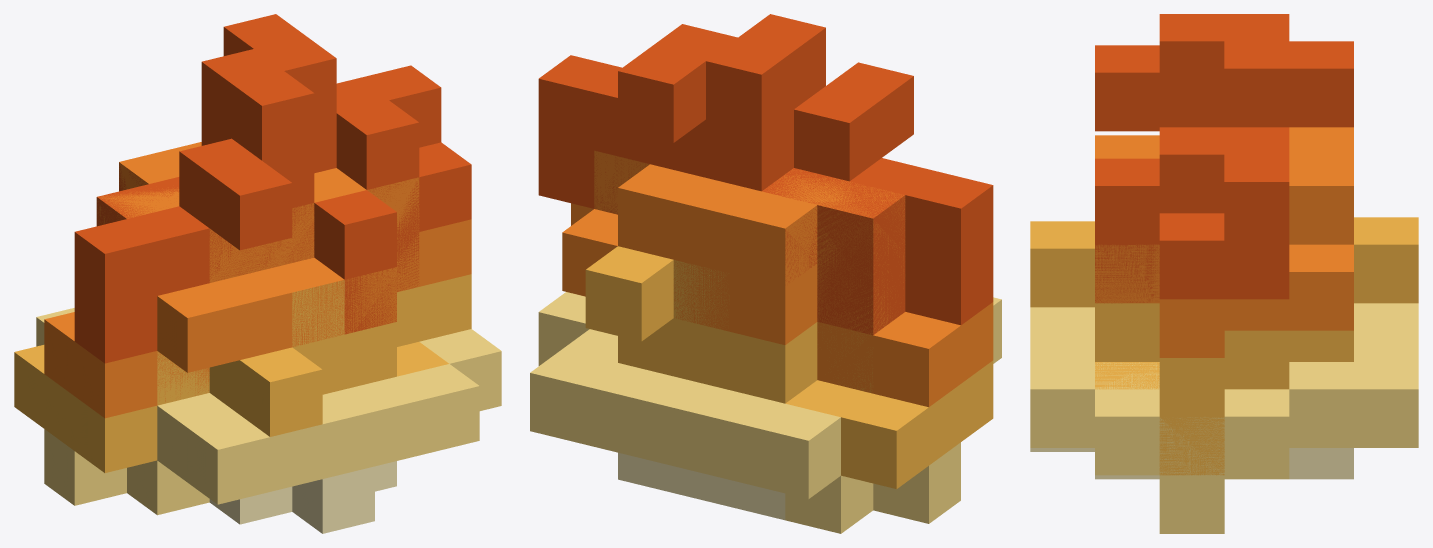
Rendered from wooden_torch_flame.glb.
3 renders of one model, left to right at view 1: azimuth 30°, elevation 25°; view 2: azimuth 150°, elevation 25°; view 3: azimuth 270°, elevation 25°, orthographic. The views are drawn at different scales.
Visible parts, largest first — view 1: flame_00, flame_04, flame_05, flame_03, flame_02, flame_06, flame_01, flame_07; view 2: flame_04, flame_00, flame_02, flame_01, flame_03, flame_05, flame_06, flame_07; view 3: flame_00, flame_03, flame_04, flame_01, flame_02, flame_05, flame_06, flame_07.
Boxes of the visible parts, left/top/right/bottom form: flame_00: left=14, top=49, right=479, bottom=533; flame_04: left=74, top=65, right=471, bottom=418; flame_05: left=152, top=161, right=499, bottom=436; flame_03: left=46, top=63, right=501, bottom=436; flame_02: left=36, top=36, right=419, bottom=482; flame_06: left=119, top=100, right=501, bottom=491; flame_01: left=14, top=14, right=419, bottom=395; flame_07: left=262, top=148, right=448, bottom=375; flame_04: left=538, top=14, right=993, bottom=392; flame_00: left=562, top=37, right=1001, bottom=533; flame_02: left=530, top=24, right=993, bottom=498; flame_01: left=562, top=47, right=960, bottom=488; flame_03: left=538, top=51, right=993, bottom=365; flame_05: left=563, top=62, right=913, bottom=472; flame_06: left=585, top=100, right=881, bottom=458; flame_07: left=673, top=260, right=871, bottom=416; flame_00: left=1030, top=14, right=1353, bottom=533; flame_03: left=1030, top=127, right=1353, bottom=533; flame_04: left=1159, top=14, right=1418, bottom=357; flame_01: left=1095, top=41, right=1353, bottom=388; flame_02: left=1224, top=41, right=1418, bottom=447; flame_05: left=1095, top=45, right=1418, bottom=416; flame_06: left=1030, top=127, right=1415, bottom=361; flame_07: left=1096, top=100, right=1224, bottom=388.
Bounding box in the file's own units: 0.4375 × 0.4375 × 0.375.
